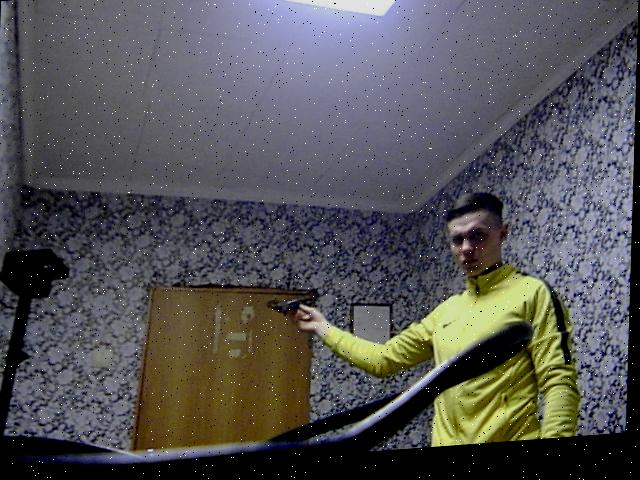drone: (265, 285, 323, 330)
